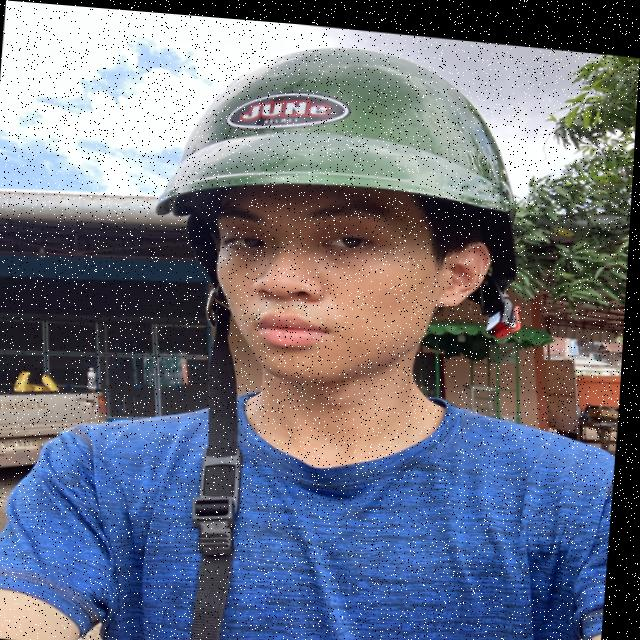illegal_helmet: (118, 14, 549, 640)
